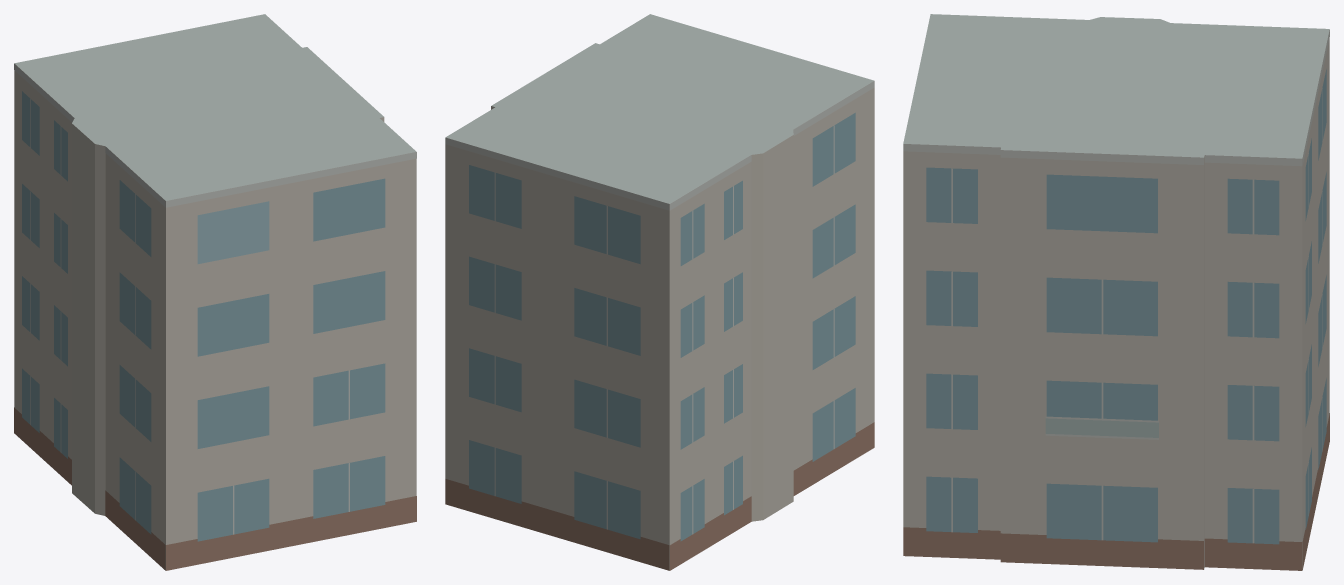
File: survey-upis-32570850.glb
3 views of the same model, side by side, from view 1: azimuth 30°, elevation 25°; view 2: azimuth 150°, elevation 25°; view 3: azimuth 270°, elevation 25° (orthographic). The views are drawn at different scales.
Parts seen in each view (by area): view 1: survey-upis-32570850.tmp; view 2: survey-upis-32570850.tmp; view 3: survey-upis-32570850.tmp.
Boxes of the visible parts, x1,y1,x2,y2 form: survey-upis-32570850.tmp: (14, 14, 416, 570); survey-upis-32570850.tmp: (445, 14, 874, 570); survey-upis-32570850.tmp: (903, 14, 1329, 570).
Bounding box in the file's own units: 10.1 × 13.4 × 12.58.
